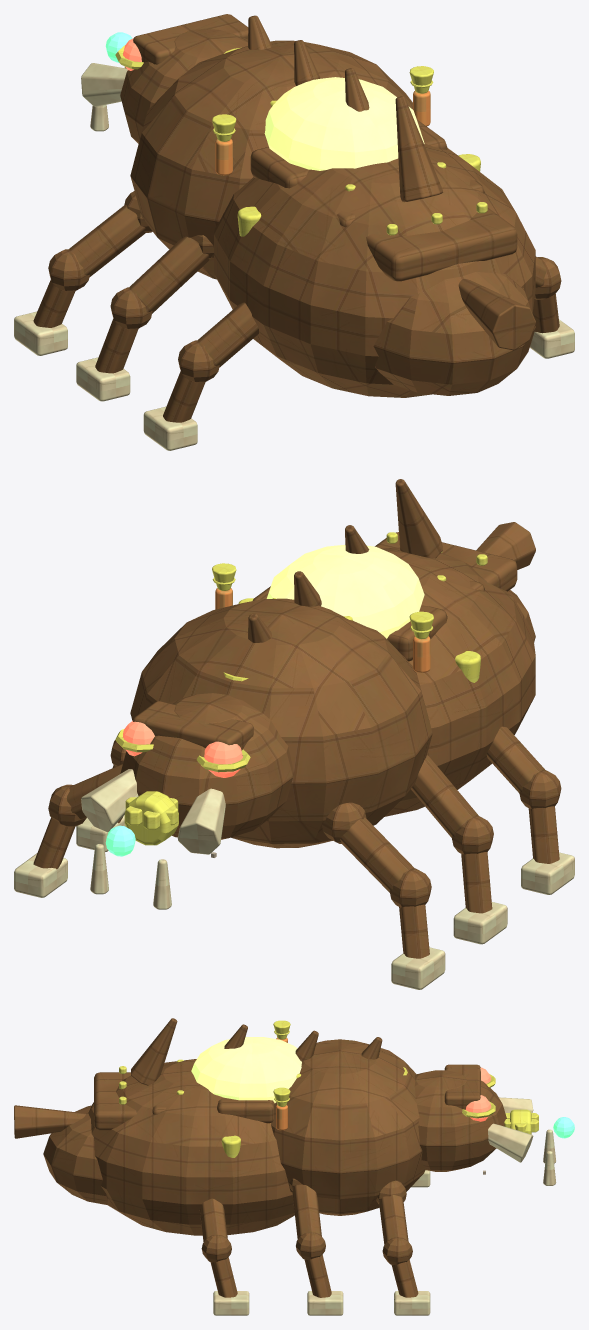
File: ff-spitter.glb
3 renders of one model, top to bottom at view 1: azimuth 30°, elevation 25°; view 2: azimuth 150°, elevation 25°; view 3: azimuth 270°, elevation 25°, orthographic. The views are drawn at different scales.
Parts seen in each view (by area): view 1: Abdomen, Thorax, Abdomen2, Sac, Carapace.002, Skull, Stinger, Spike, Femur.002, Femur.004, Femur, Brow (+18 smaller); view 2: Thorax, Abdomen, Skull, Sac, Brow, Femur.004, Femur.002, Mandible, Spike, Mandible.001, Femur, Carapace.002 (+24 smaller); view 3: Abdomen, Thorax, Skull, Sac, Abdomen2, Carapace.002, Stinger, Spike, Femur.003, Brow, Mandible.001, Carapace (+15 smaller).
Boxes of the visible parts, <box> form: Abdomen: <box>214,143,535,397</box>; Thorax: <box>130,40,412,279</box>; Abdomen2: <box>373,272,535,395</box>; Sac: <box>264,77,424,170</box>; Carapace.002: <box>366,208,517,281</box>; Skull: <box>120,28,247,143</box>; Stinger: <box>458,279,535,350</box>; Spike: <box>395,96,442,202</box>; Femur.002: <box>129,236,209,313</box>; Femur.004: <box>69,205,145,277</box>; Femur: <box>198,302,258,367</box>; Brow: <box>133,14,248,64</box>; Thorax: <box>130,598,432,848</box>; Abdomen: <box>380,547,535,816</box>; Skull: <box>120,693,293,839</box>; Sac: <box>266,544,424,638</box>; Brow: <box>133,701,253,750</box>; Femur.004: <box>340,817,413,892</box>; Femur.002: <box>411,754,478,837</box>; Mandible: <box>177,788,225,854</box>; Spike: <box>395,479,442,558</box>; Mandible.001: <box>81,769,138,832</box>; Femur: <box>486,726,544,792</box>; Carapace.002: <box>375,532,517,591</box>; Abdomen: <box>88,1059,294,1235</box>; Thorax: <box>271,1039,425,1215</box>; Skull: <box>414,1070,506,1171</box>; Sac: <box>191,1037,301,1103</box>; Abdomen2: <box>43,1105,107,1204</box>; Carapace.002: <box>94,1072,136,1130</box>; Stinger: <box>14,1105,85,1138</box>; Spike: <box>131,1018,177,1085</box>; Femur.003: <box>292,1184,321,1239</box>; Brow: <box>444,1064,480,1109</box>; Mandible.001: <box>488,1123,533,1162</box>; Carapace: <box>217,1097,274,1123</box>.
Size of the model in its own units: 0.91 by 0.6972 by 1.55.
13 materials, 10 textured.
